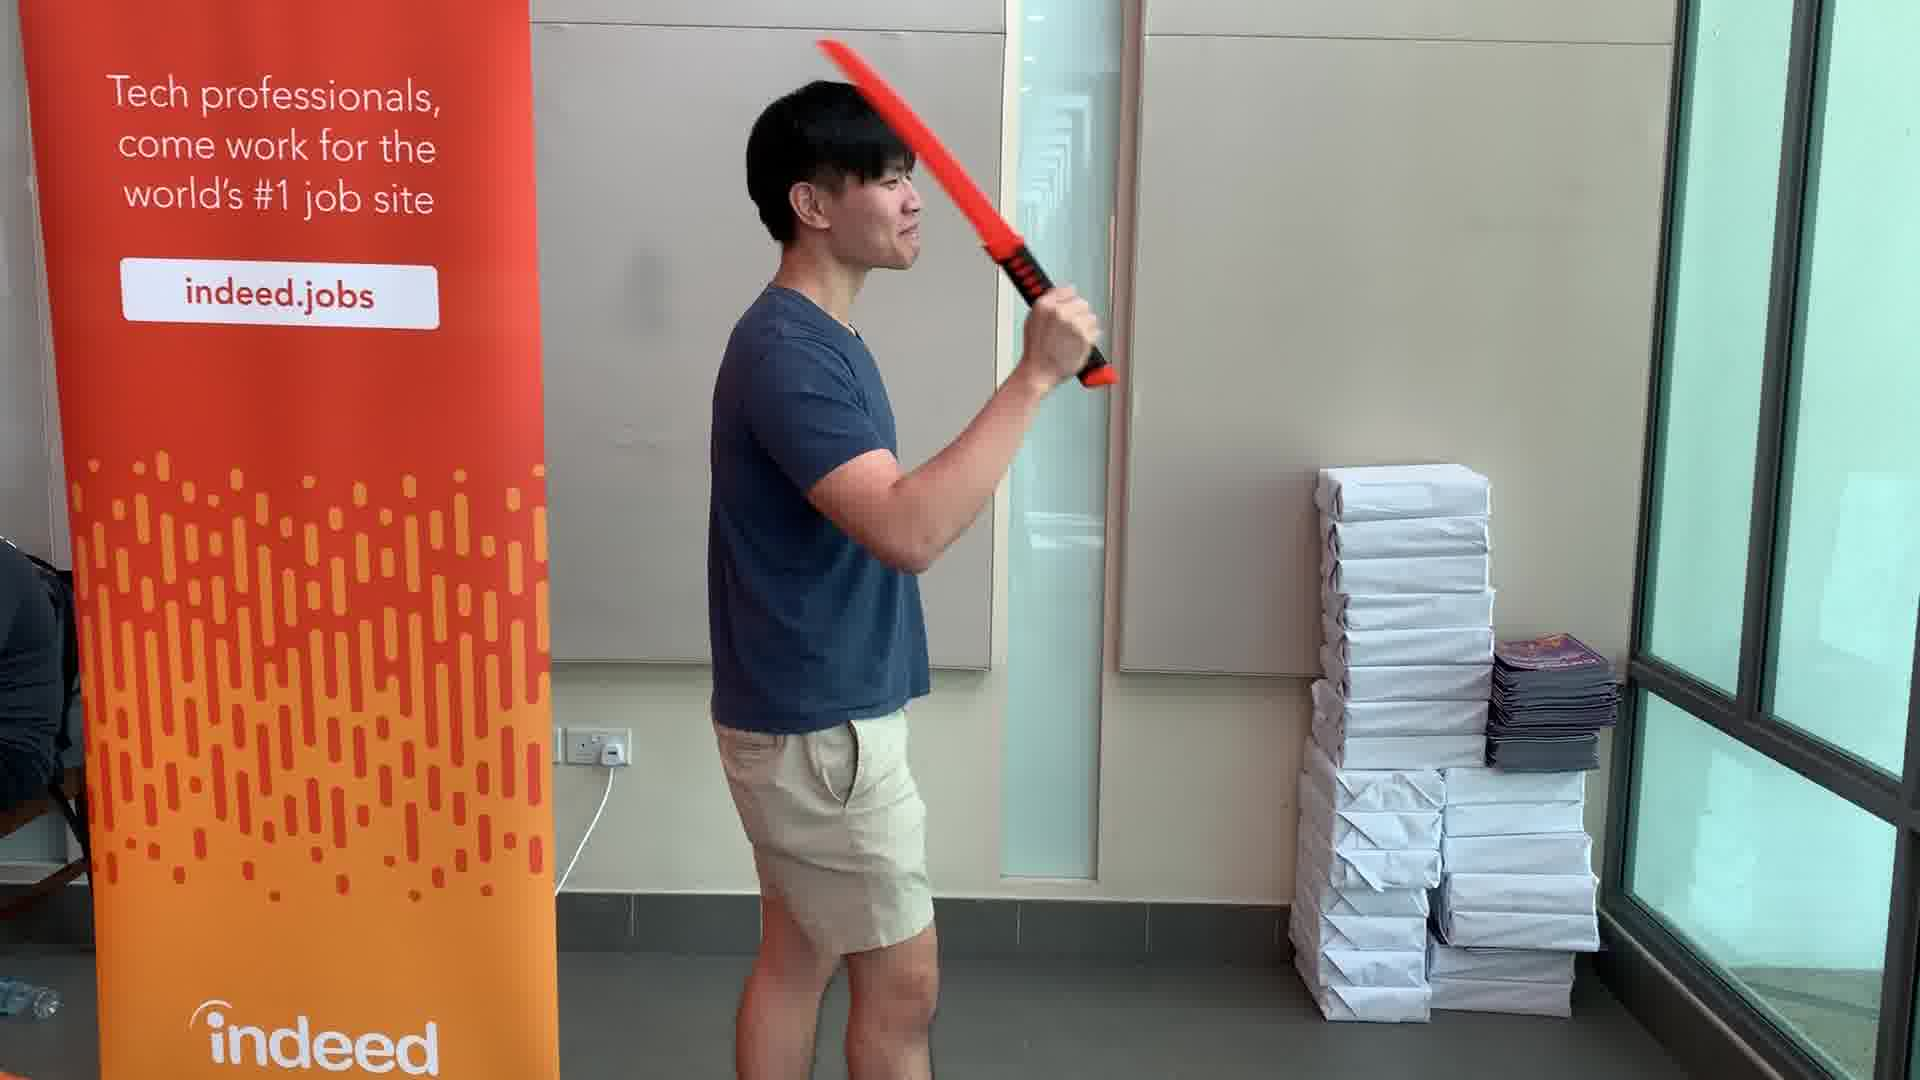knife: (811, 29, 1129, 389)
